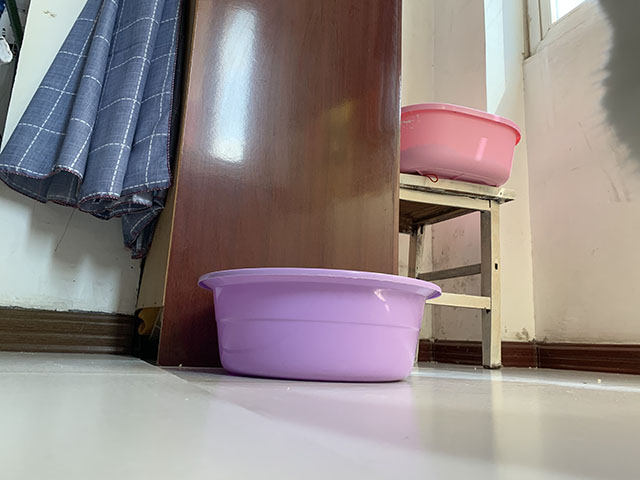stool: (399, 172, 519, 370)
